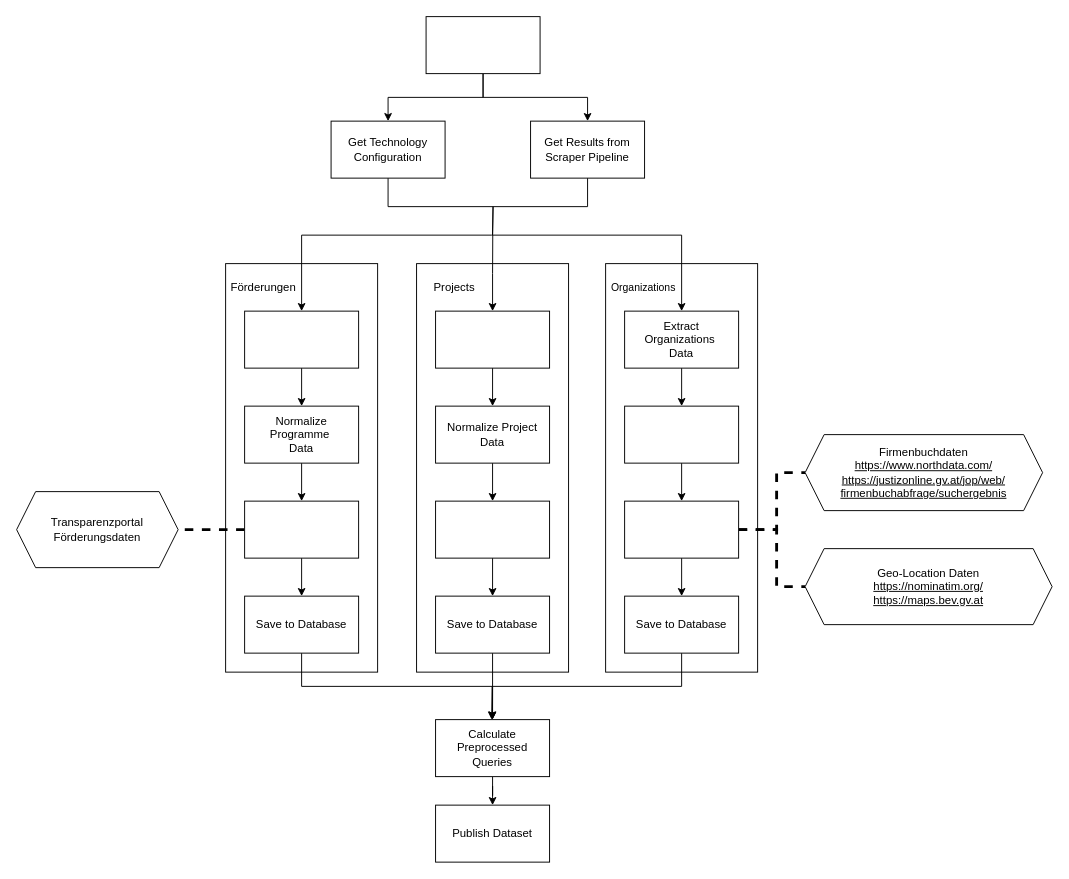
Some shapes in this 1069 by 879 pixel diagram are drawn without their labels. The centre of each missing label's shape, as x and y in pixels:
Create Data set: the point at 482,45
Enrich Organizations Data: the point at 681,529
Enrich Programme Data: the point at 301,529
Enrich Project Data: the point at 492,529
Extract Programme Data: the point at 301,339
Extract Project Data: the point at 492,339
Normalize Organizations Data: the point at 681,434
